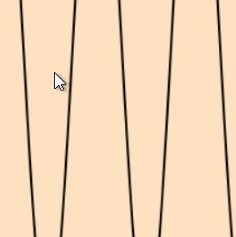cursor: (52, 70, 67, 91)
